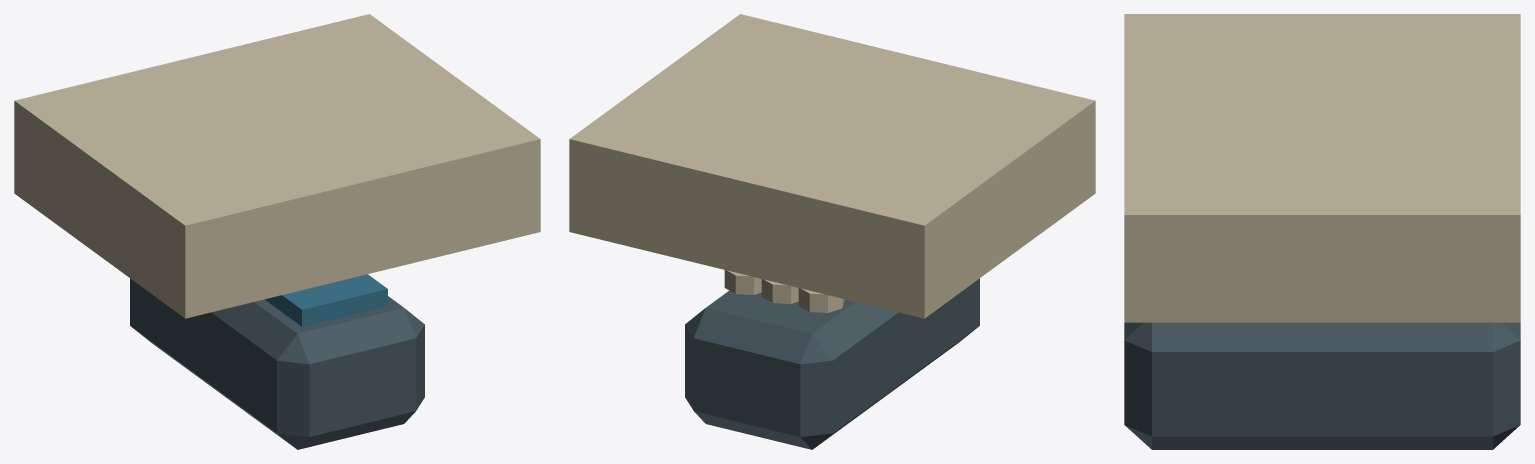
Rendered from set_shopping_bag.glb.
3 views of the same model, side by side, from view 1: azimuth 30°, elevation 25°; view 2: azimuth 150°, elevation 25°; view 3: azimuth 270°, elevation 25° (orthographic). The views are drawn at different scales.
Visible parts, largest first — view 1: set_shopping_bag; view 2: set_shopping_bag; view 3: set_shopping_bag.
Boxes of the visible parts, x1=… form: set_shopping_bag: x1=14, y1=14, x2=540, y2=449; set_shopping_bag: x1=569, y1=14, x2=1095, y2=449; set_shopping_bag: x1=1124, y1=14, x2=1520, y2=449.
Bounding box in the file's own units: 0.24 × 0.17 × 0.2.
